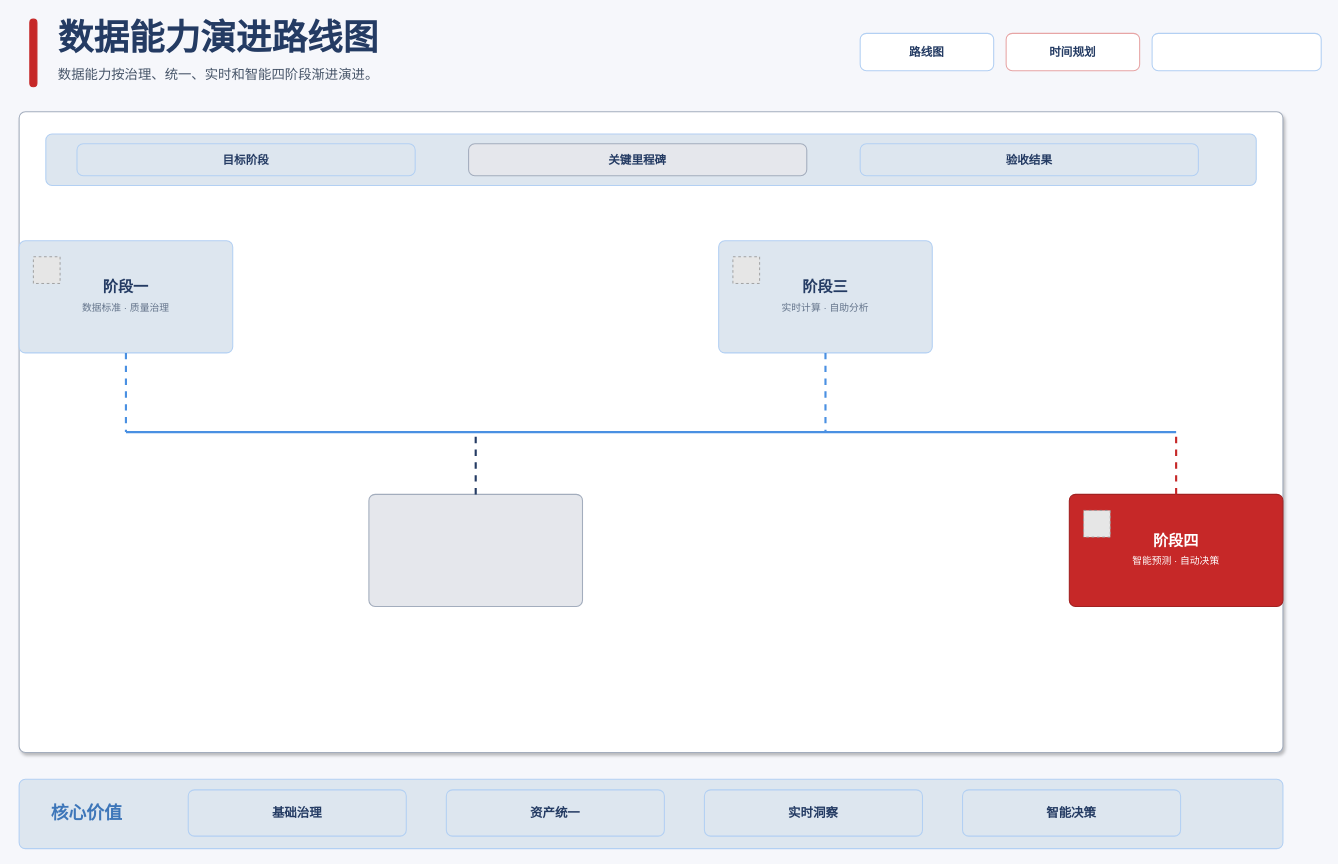
Image size: 1338x864. Some labels were removed from this diagram. Grey dashed boxes stand in for pictures. The centre of each missing label's shape, as x and y in pixels:
Steady Red & Blue: (x=1236, y=51)
阶段二 统一指标 · 主题资产: (x=475, y=550)
